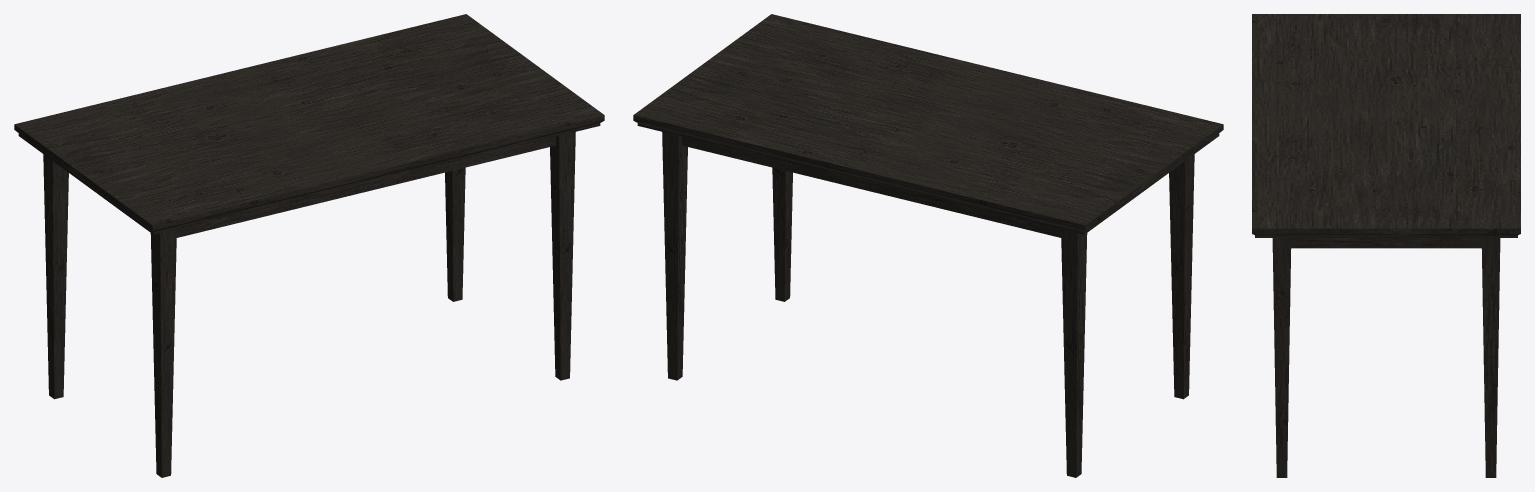
The model's file is table_large_2.glb.
3 renders of one model, left to right at view 1: azimuth 30°, elevation 25°; view 2: azimuth 150°, elevation 25°; view 3: azimuth 270°, elevation 25°, orthographic. The views are drawn at different scales.
Visible parts, largest first — view 1: table_large_2; view 2: table_large_2; view 3: table_large_2.
Boxes of the visible parts, left/top/right/bottom form: table_large_2: left=14, top=14, right=604, bottom=477; table_large_2: left=633, top=14, right=1223, bottom=477; table_large_2: left=1252, top=14, right=1520, bottom=477.
Size of the model in its own units: 1.7 by 0.96 by 0.9.
Materials: 1 (1 with a texture image).
